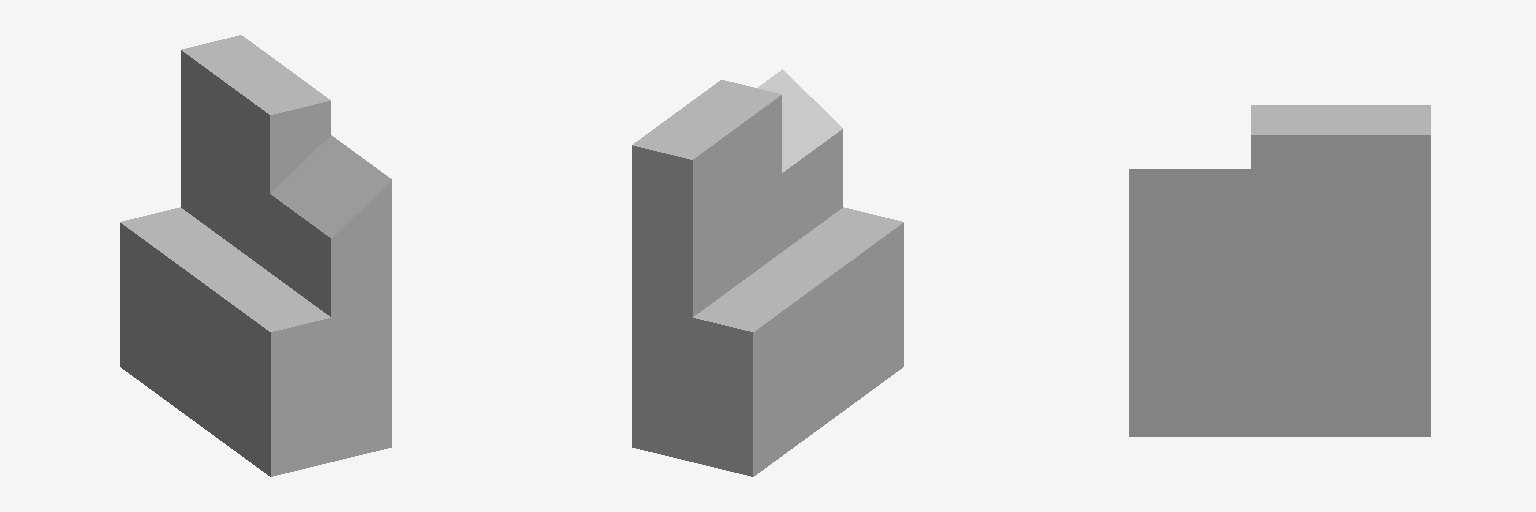
File: lab_2.obj
3 views of the same model, side by side, from view 1: azimuth 30°, elevation 25°; view 2: azimuth 150°, elevation 25°; view 3: azimuth 270°, elevation 25° (orthographic).
Parts seen in each view (by area): view 1: Mesh1 Group1 Model; view 2: Mesh1 Group1 Model; view 3: Mesh1 Group1 Model.
Boxes of the visible parts, box(x1,y1,x2,y2) form: Mesh1 Group1 Model: box(120, 35, 391, 476); Mesh1 Group1 Model: box(632, 69, 903, 476); Mesh1 Group1 Model: box(1129, 105, 1430, 436).
Bounding box in the file's own units: 63.19 × 150 × 136.